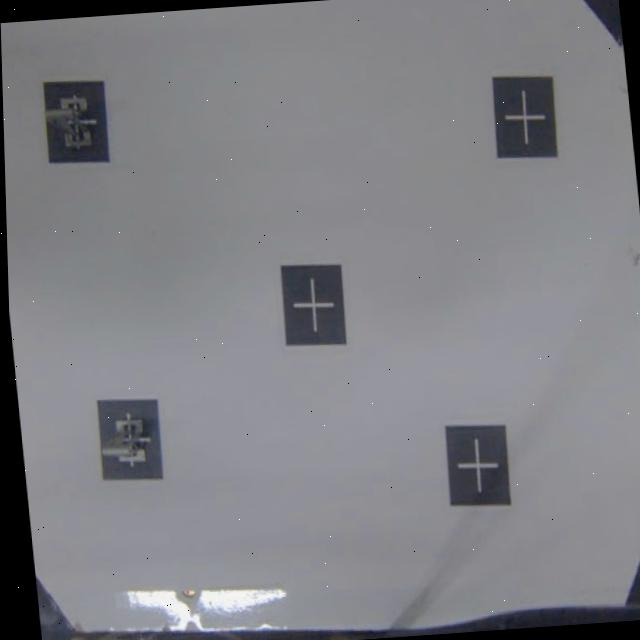pick1: (95, 398, 165, 482)
pick4: (39, 78, 112, 162)
